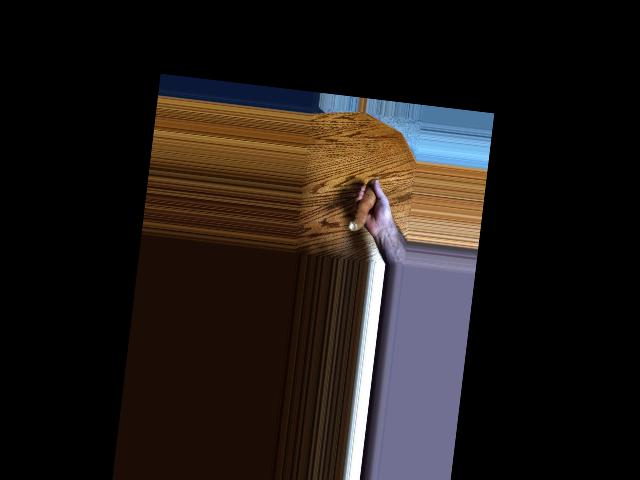sweet_potato: (348, 173, 379, 237)
